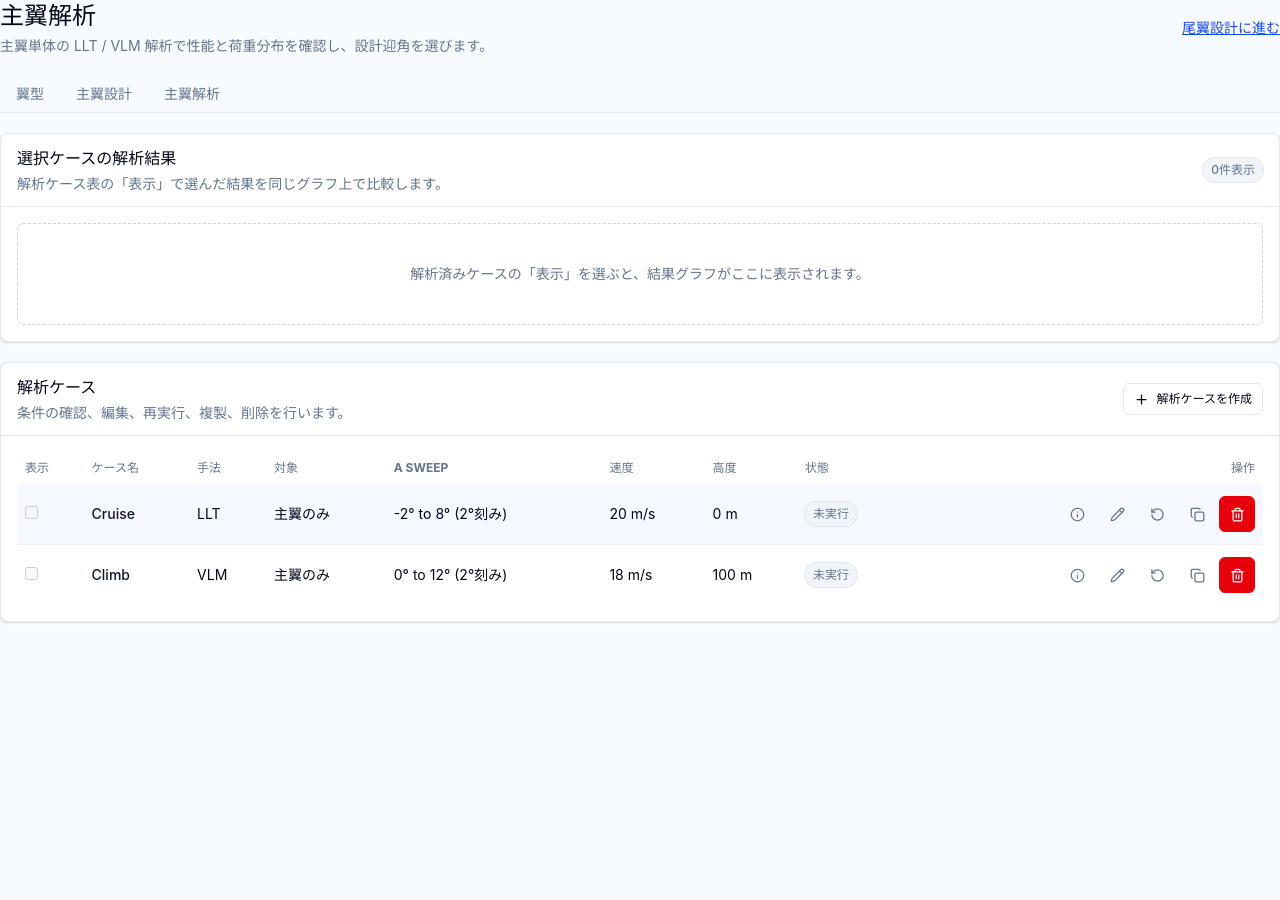
Test: AnalysisPage › opens creation in the standard inspector drawer
What coordinates should you click on to do the following:
click the button "解析ケースを作成"
I would click on:
 (1193, 399)
Its box is x1=1123 y1=383 x2=1263 y2=415.
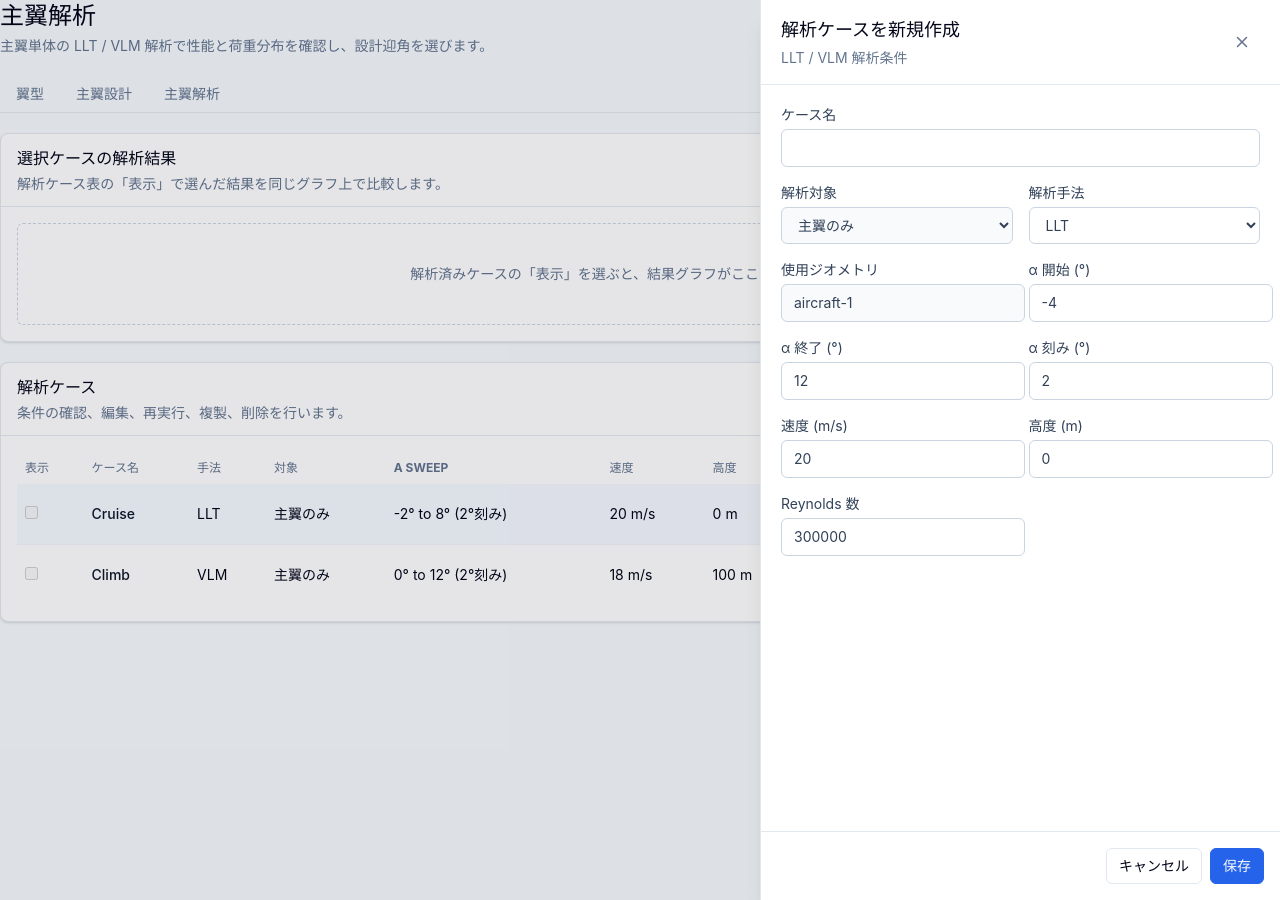
Check: the dialog "解析ケースを新規作成" is shown, box x1=760 y1=0 x2=1279 y2=899
Check: the button with aria-label "解析ケースを保存" is shown, box x1=1210 y1=848 x2=1264 y2=884
